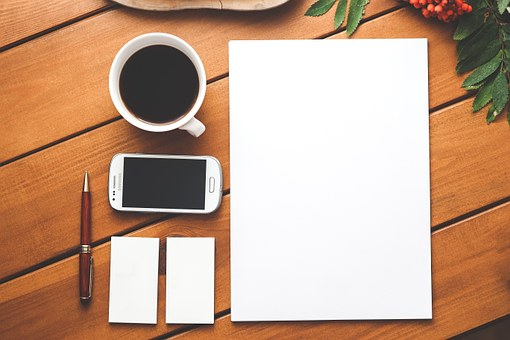mobile: (99, 149, 225, 219)
